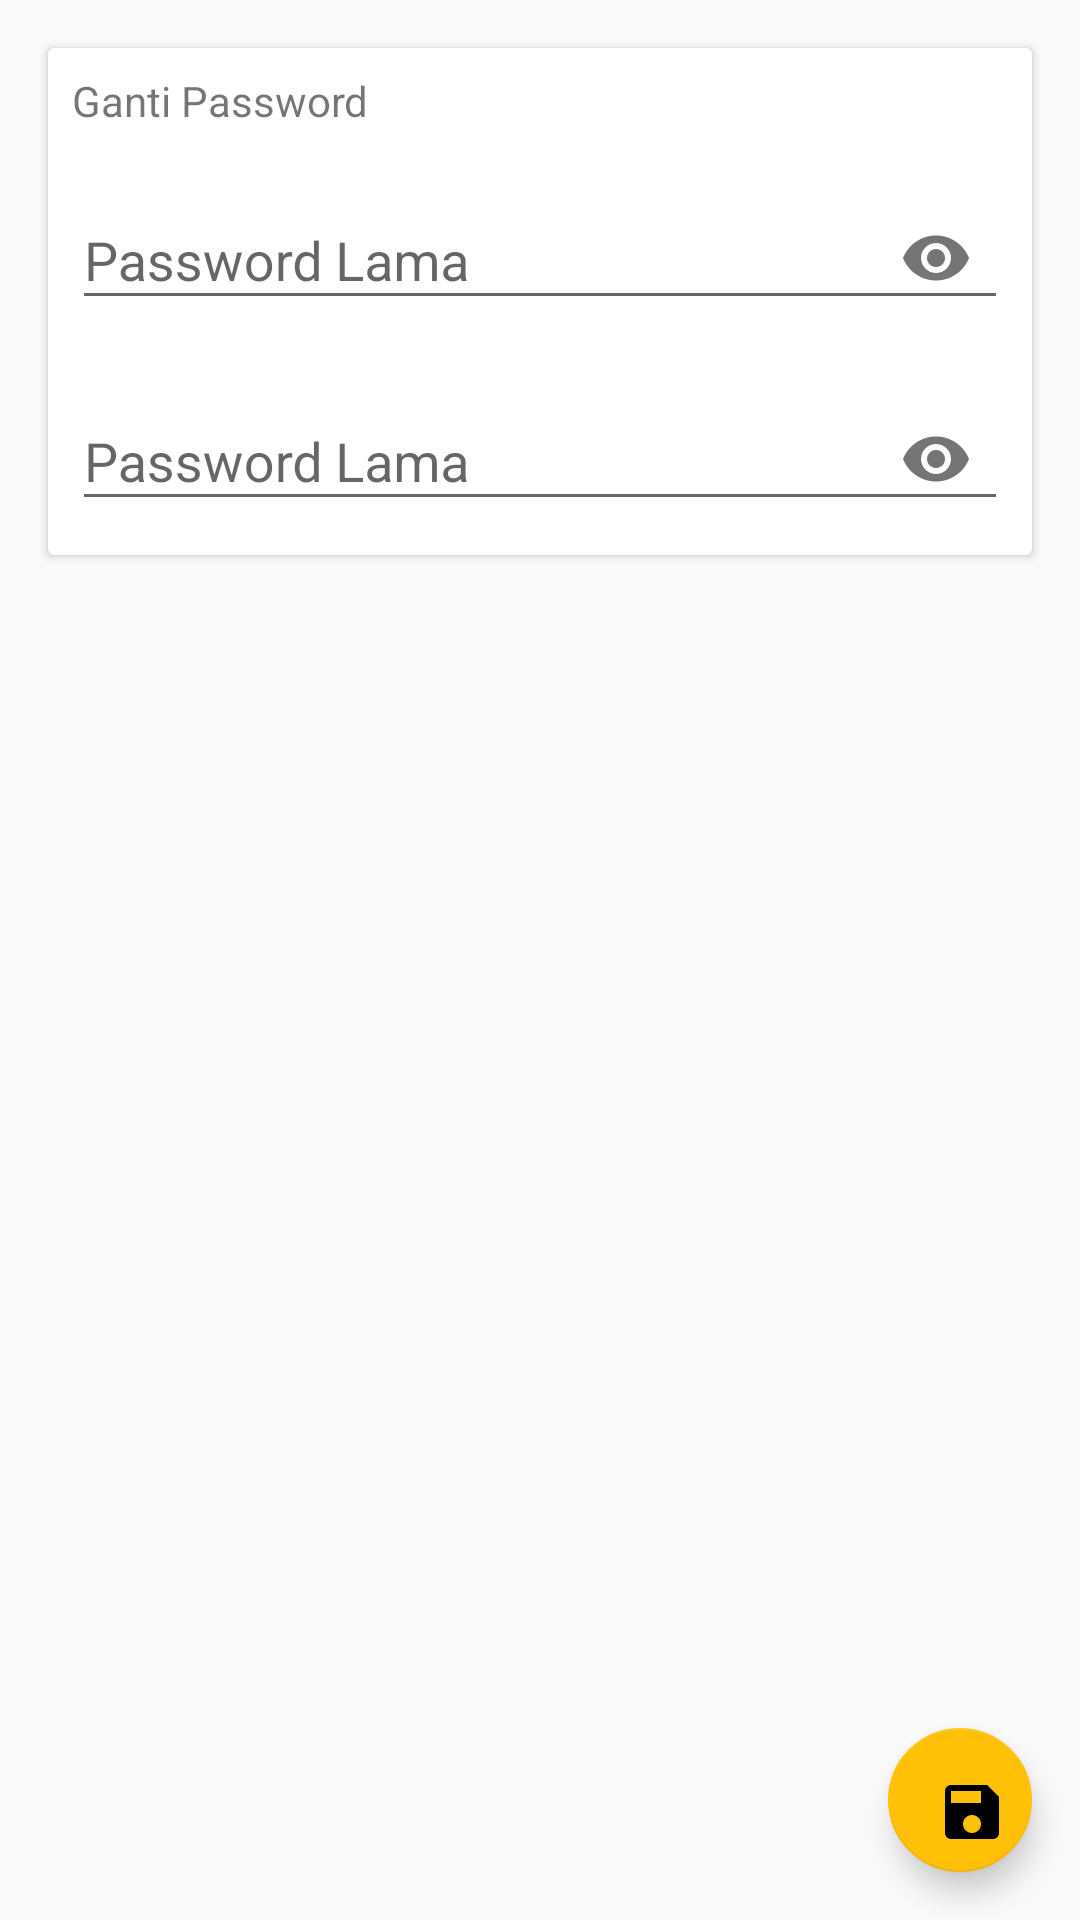

Where to tap for icons on this 1080px x 1920px app screen, as (x=x, y=y):
save: (x=960, y=1800)
